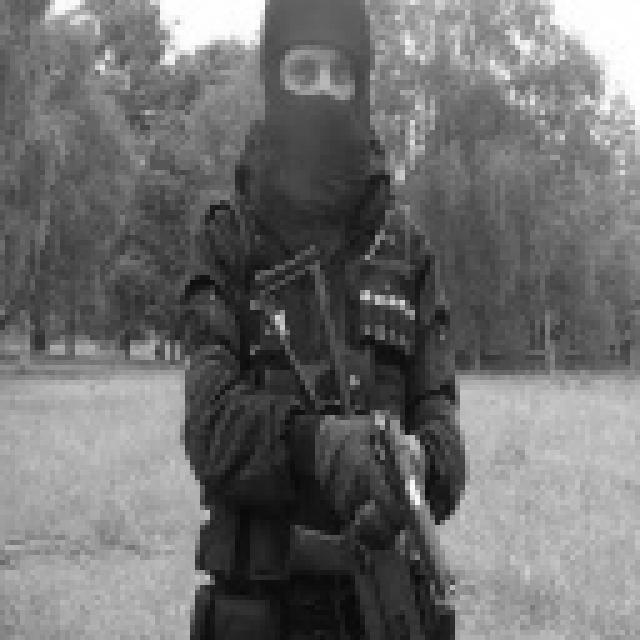Rifle: (235, 229, 484, 640)
